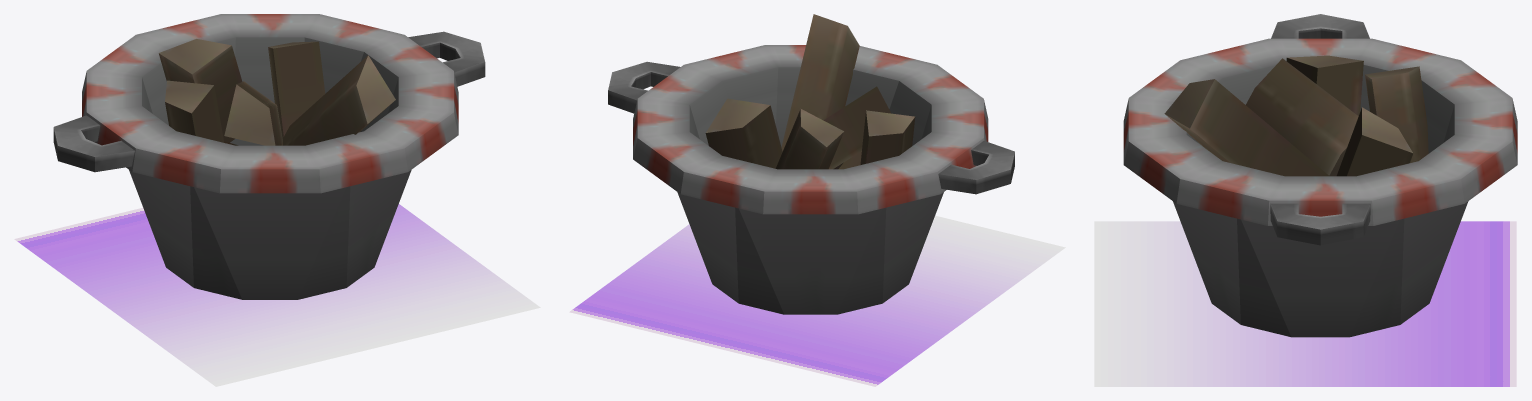
Rendered from brazier3.fbx.
The picture shows the model from 3 angles, left to right: view 1: azimuth 30°, elevation 25°; view 2: azimuth 150°, elevation 25°; view 3: azimuth 270°, elevation 25°; orthographic projection. The views are drawn at different scales.
Visible parts, largest first — view 1: brazier3, shadow (5); view 2: brazier3, shadow (5); view 3: brazier3, shadow (5).
Part boxes in pixels (<box>): brazier3: <box>53,14,485,299</box>; shadow (5): <box>14,204,540,386</box>; brazier3: <box>608,14,1014,314</box>; shadow (5): <box>569,215,1065,386</box>; brazier3: <box>1123,14,1517,337</box>; shadow (5): <box>1094,221,1516,386</box>.
Bounding box in the file's own units: 1.02 × 0.5473 × 0.8417.
